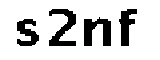2: (45, 6, 77, 49)
f: (116, 5, 140, 53)
n: (81, 15, 113, 49)
s: (13, 18, 41, 51)
